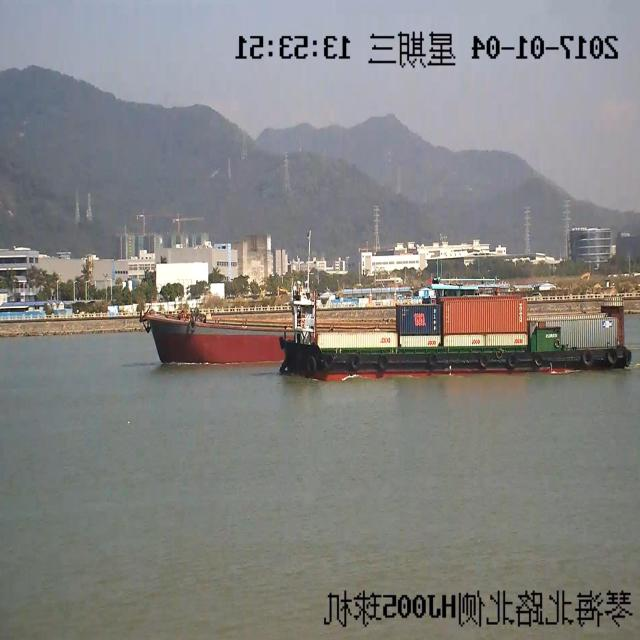cargoship: (276, 272, 620, 406), (120, 258, 278, 394)
